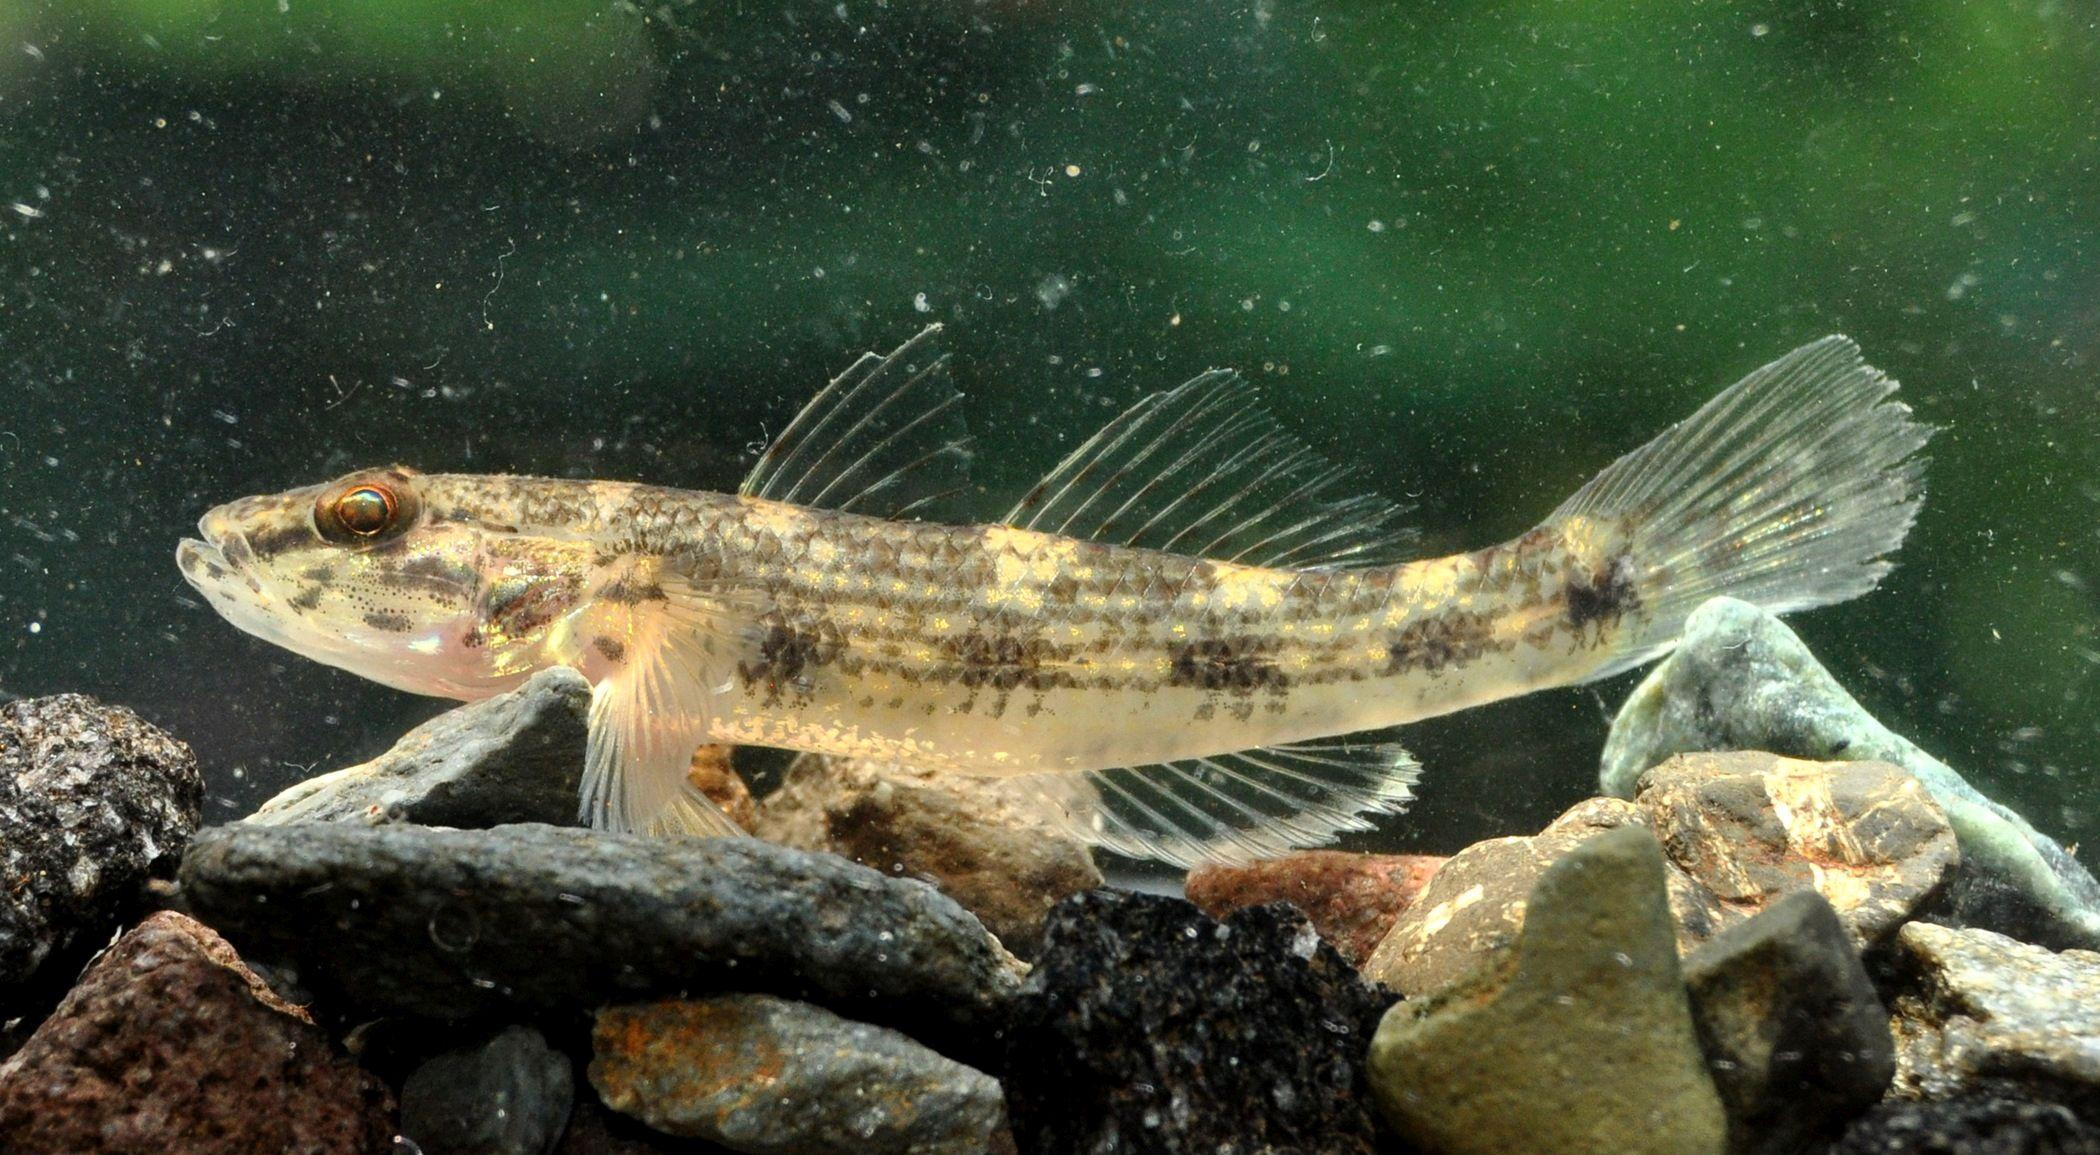Goby: (158, 307, 1946, 896)
